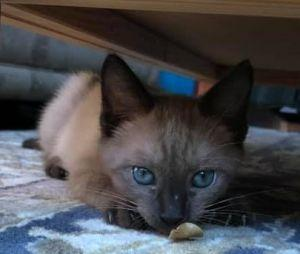siamese: (87, 37, 267, 246)
